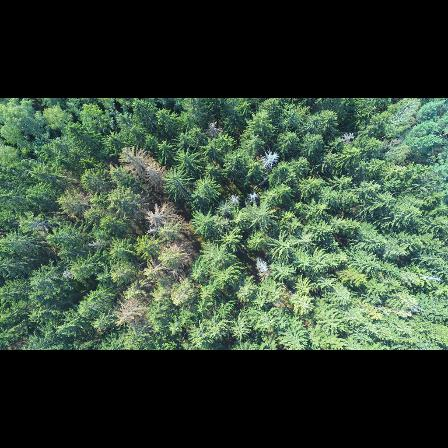Dead: (114, 295, 144, 326), (146, 200, 179, 227), (118, 142, 145, 172), (144, 160, 170, 190), (257, 147, 282, 171), (252, 256, 270, 276), (227, 191, 242, 207), (244, 190, 258, 204)
